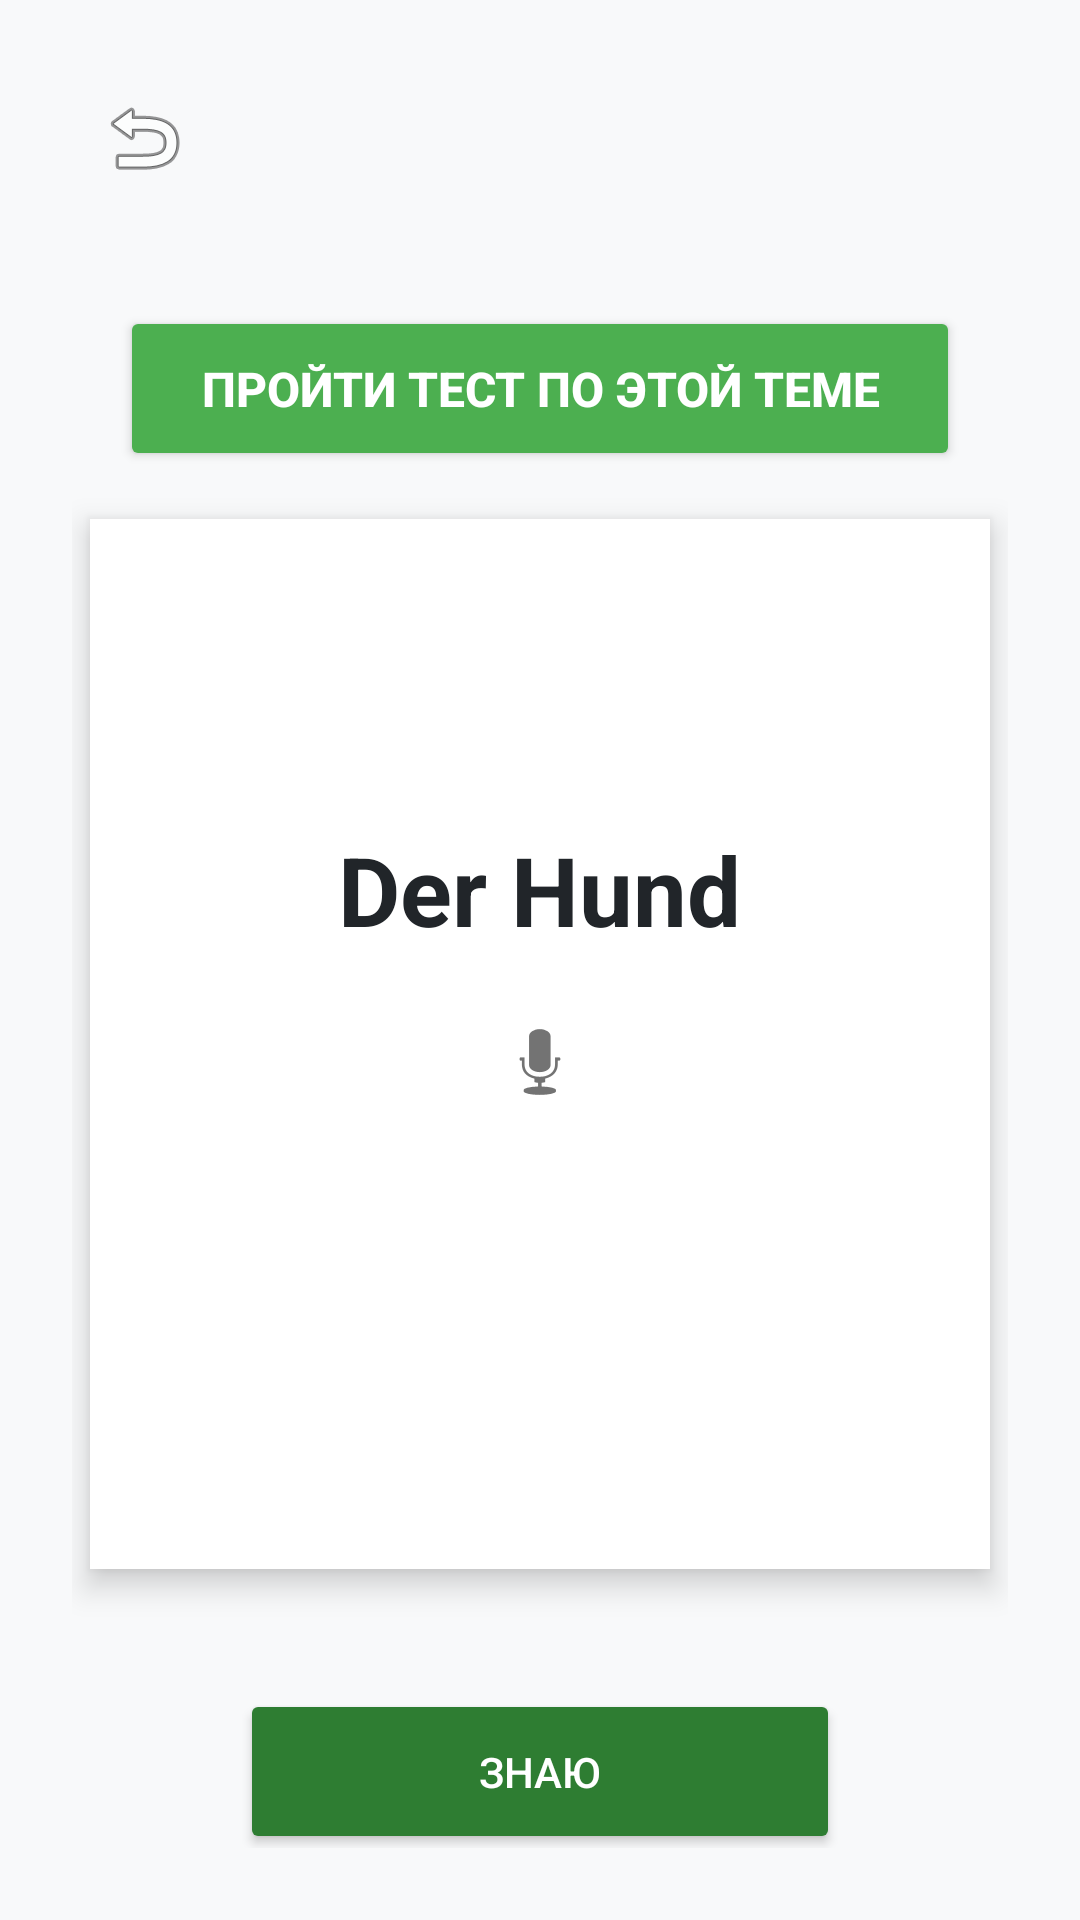

Screen size 1080×1920. Icon name, then its center in pixels as [x,y]:
Назад к темам: [145,138]
